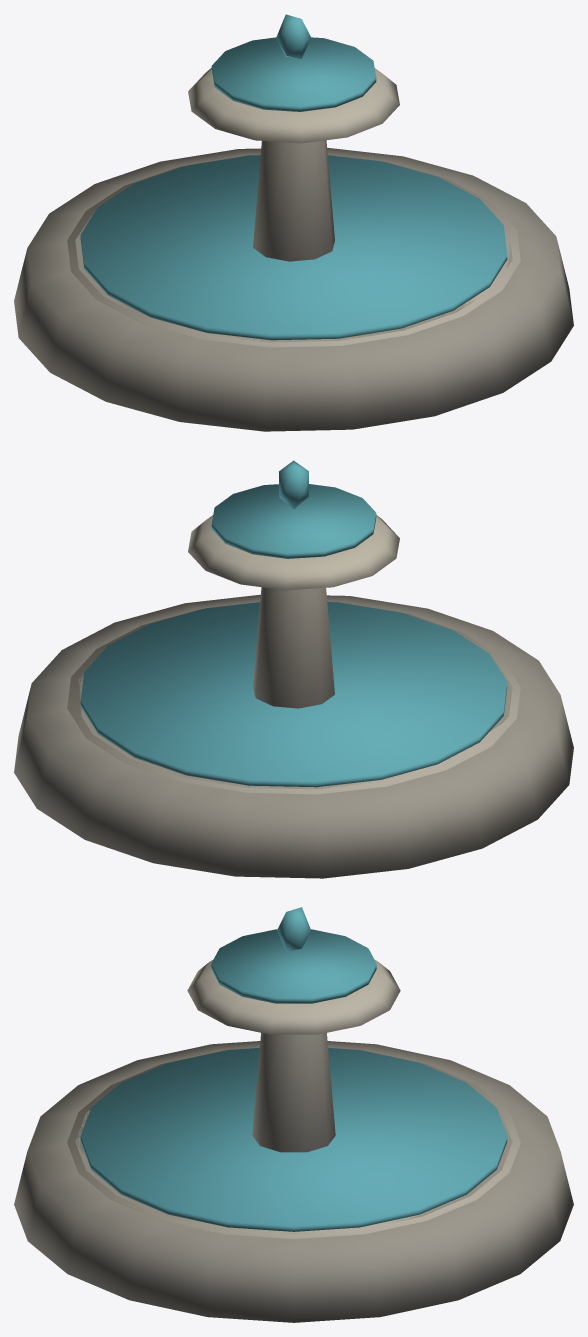
Rendered from fountain.glb.
3 views of the same model, one above another, from view 1: azimuth 30°, elevation 25°; view 2: azimuth 150°, elevation 25°; view 3: azimuth 270°, elevation 25° (orthographic).
Parts seen in each view (by area): view 1: fountain; view 2: fountain; view 3: fountain.
Boxes of the visible parts, left/top/right/bottom form: fountain: left=14, top=14, right=573, bottom=431; fountain: left=14, top=460, right=573, bottom=878; fountain: left=14, top=907, right=573, bottom=1322.
Bounding box in the file's own units: 4.2 × 2.52 × 4.2.
